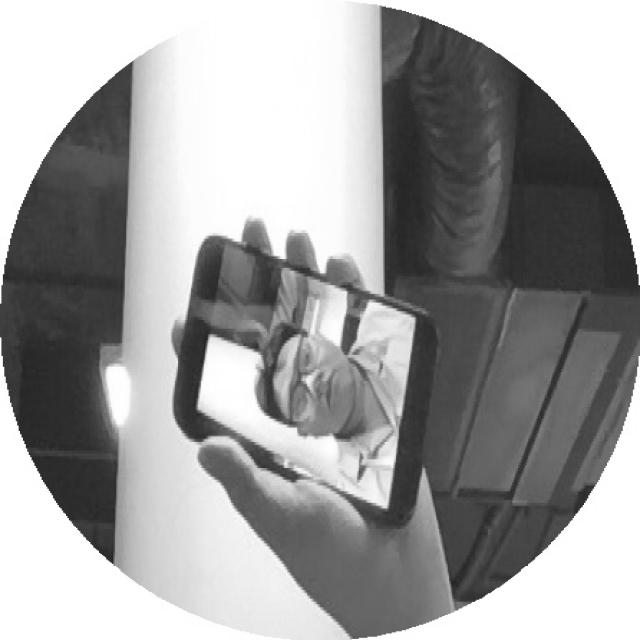fake: (128, 222, 471, 541), (225, 315, 411, 461)
